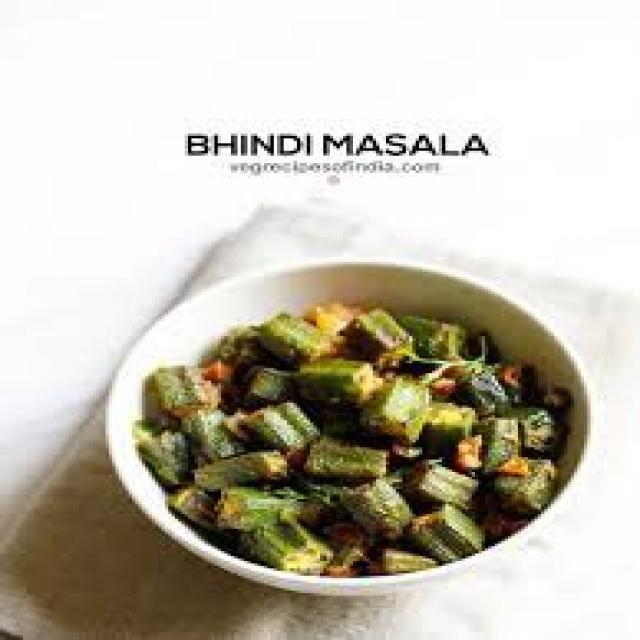Bhindi Masala: (126, 300, 582, 586)
